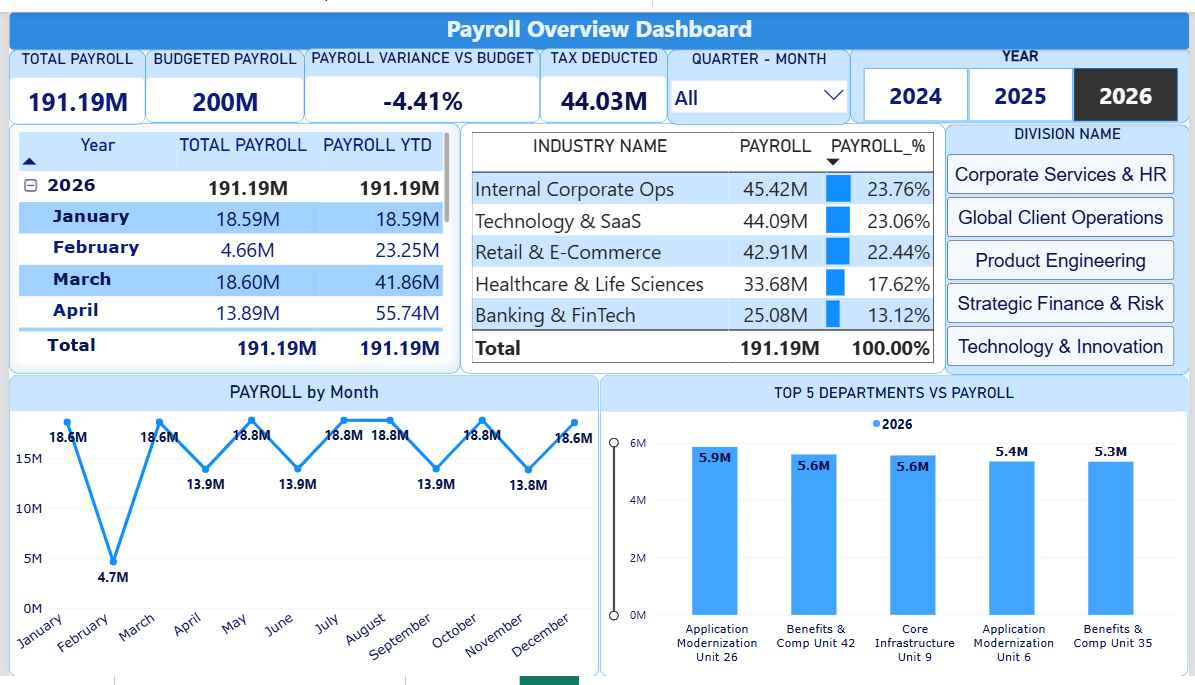

What the dashboard file says about the page in this screenshot:
{"tool":"powerbi","page":{"name":"Payroll Overview Dashboard","canvas":[1920,1080],"ordinal":0},"visuals":[{"type":"pivotTable","fields":{"Rows":["Dim_Calender.Year","Dim_Calender.Month"],"Values":["Fact_Payroll.TOTAL_PAYROLL","Fact_Payroll.PAYROLL_TOTALYTD"]},"box":[0,181.3,733.7,407.3],"z":0},{"type":"slicer","title":"YEAR","fields":{"Values":["Dim_Calender.Year"]},"box":[1368.7,56.1,551.4,124.4],"z":2000},{"type":"tableEx","fields":{"Values":["Dim_Industry.Industry_Name","Fact_Payroll.TOTAL_PAYROLL","Dim_Industry.INDUSTRY_PAYROLL_%"]},"box":[734.9,181.3,788.6,407.3],"z":3000},{"type":"textbox","box":[0,0,1921,62],"z":4000},{"type":"lineChart","title":"PAYROLL by Month","fields":{"Category":["Dim_Calender.Month"],"Y":["Fact_Payroll.TOTAL_PAYROLL"]},"box":[0,589.3,959.1,491.5],"z":5000},{"type":"clusteredColumnChart","title":"TOP 5 DEPARTMENTS VS PAYROLL","fields":{"Category":["Dim_Department.Department_Name"],"Series":["Dim_Calender.Year"],"Y":["Fact_Payroll.TOTAL_PAYROLL"]},"box":[961.3,590.4,956.4,490.4],"z":6000},{"type":"slicer","title":"QUARTER - MONTH","fields":{"Values":["Dim_Quarter.Quarter_Name","Dim_Date.Month_Name"]},"box":[1071.1,61,297.7,122],"z":7000},{"type":"cardVisual","title":"TAX DEDUCTED","fields":{"Data":["Fact_Payroll.TOTAL_TAX_DEDUCTED"]},"box":[863.7,58.6,207.4,122],"z":8000},{"type":"cardVisual","title":"TOTAL PAYROLL","fields":{"Data":["Fact_Payroll.TOTAL_PAYROLL"]},"box":[0,61,222,122],"z":10000},{"type":"cardVisual","title":"BUDGETED PAYROLL","fields":{"Data":["Fact_Payroll.BUDGETED_PAYROLL"]},"box":[222,61,258.6,119.6],"z":11000},{"type":"cardVisual","title":"PAYROLL VARIANCE VS BUDGET","fields":{"Data":["Fact_Payroll.PAYROLL_VARIANCE_TO_BUDGET"]},"box":[480.6,58.6,383.1,122],"z":12000},{"type":"ChicletSlicer1448559807354","title":"DIVISION NAME","fields":{"Category":["Dim_Division.Division_Name"]},"box":[1522.4,183,397.7,407],"z":13001}]}

Visuals, with their boxes in screenshot pixels (x1, y1, x2, y2), scaled from the page's 1920x1080 canvas onto the 1195x685 screenshot:
pivotTable - Dim_Calender.Year x Dim_Calender.Month: <box>0,115,457,373</box>
"YEAR" slicer: <box>852,36,1194,114</box>
tableEx - Dim_Industry.Industry_Name x Fact_Payroll.TOTAL_PAYROLL: <box>457,115,948,373</box>
textbox: <box>0,0,1194,39</box>
"PAYROLL by Month" lineChart: <box>0,374,597,684</box>
"TOP 5 DEPARTMENTS VS PAYROLL" clusteredColumnChart: <box>598,374,1194,684</box>
"QUARTER - MONTH" slicer: <box>667,39,852,116</box>
"TAX DEDUCTED" cardVisual: <box>538,37,667,115</box>
"TOTAL PAYROLL" cardVisual: <box>0,39,138,116</box>
"BUDGETED PAYROLL" cardVisual: <box>138,39,299,115</box>
"PAYROLL VARIANCE VS BUDGET" cardVisual: <box>299,37,538,115</box>
"DIVISION NAME" ChicletSlicer1448559807354: <box>948,116,1194,374</box>
